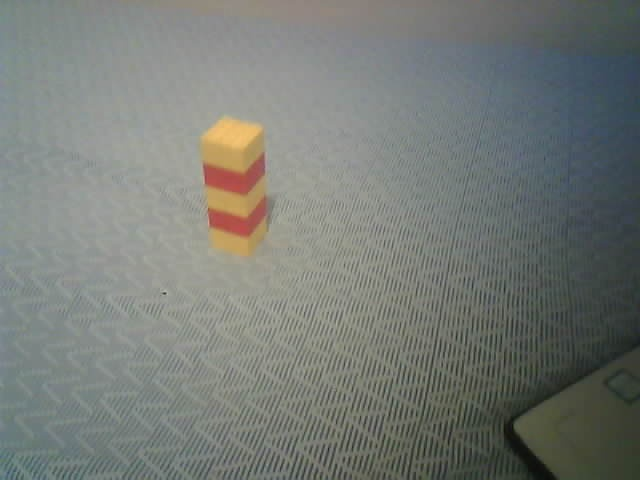lego: (198, 115, 268, 257)
